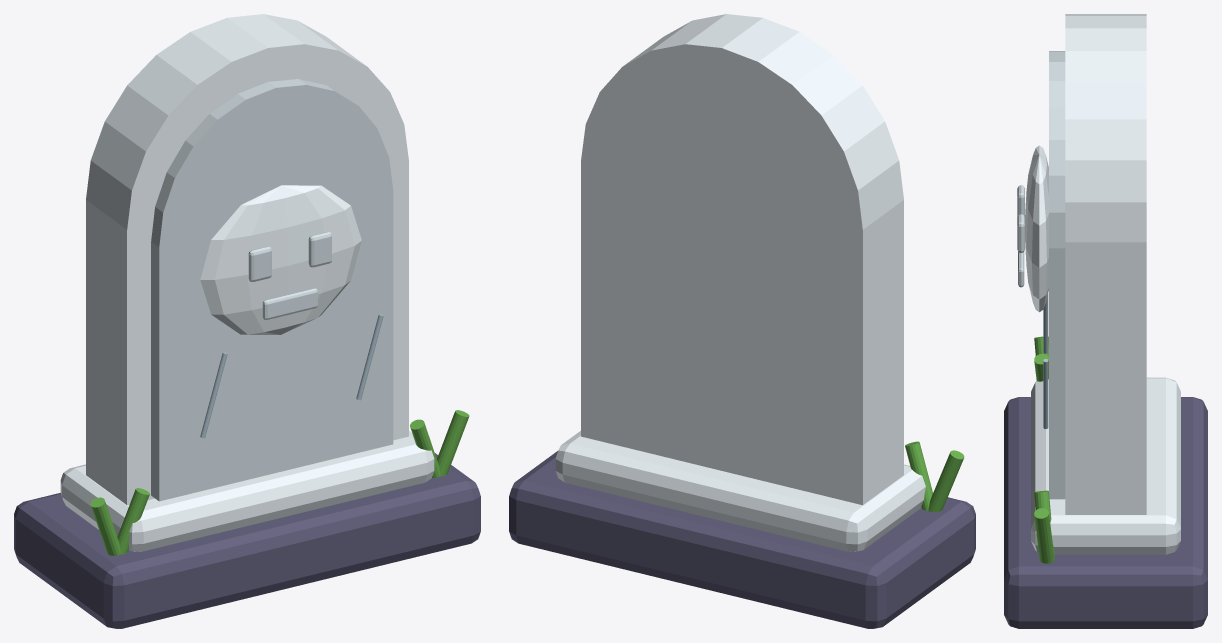
The model's file is Grave_Marble.glb.
The picture shows the model from 3 angles, left to right: view 1: azimuth 30°, elevation 25°; view 2: azimuth 150°, elevation 25°; view 3: azimuth 270°, elevation 25°; orthographic projection.
Visible parts, largest first — view 1: Inset.002, Arch.002, Foundation.002, Foot.002, ZombieFace.002, Grin.002, Grass.011, Grass.008, Grass.009, Eye.004, Eye.005; view 2: Arch.002, Foundation.002, Foot.002, Grass.008, Grass.009; view 3: Arch.002, Foundation.002, Foot.002, Inset.002, ZombieFace.002, Grass.011, Vein.001, Grass.010, Vein, Eye.005.
Part boxes in pixels (x1,y1,x2,y2): Inset.002: [151, 79, 393, 501]; Arch.002: [86, 14, 408, 505]; Foundation.002: [14, 453, 480, 628]; Foot.002: [60, 431, 434, 551]; ZombieFace.002: [200, 185, 361, 334]; Grin.002: [262, 288, 317, 319]; Grass.011: [437, 410, 469, 476]; Grass.008: [90, 497, 120, 555]; Grass.009: [117, 488, 149, 554]; Eye.004: [248, 246, 271, 281]; Eye.005: [308, 232, 331, 267]; Arch.002: [581, 14, 903, 505]; Foundation.002: [509, 451, 975, 628]; Foot.002: [555, 431, 925, 551]; Grass.008: [928, 450, 964, 512]; Grass.009: [905, 441, 932, 510]; Arch.002: [1065, 14, 1146, 514]; Foundation.002: [1004, 397, 1207, 628]; Foot.002: [1031, 377, 1180, 554]; Inset.002: [1049, 51, 1065, 499]; ZombieFace.002: [1025, 145, 1048, 312]; Grass.011: [1034, 508, 1054, 563]; Vein.001: [1043, 359, 1048, 428]; Grass.010: [1034, 490, 1054, 557]; Vein: [1043, 293, 1048, 353]; Eye.005: [1017, 214, 1024, 252].
Size of the model in its own units: 2.01 by 2.65 by 0.95.
